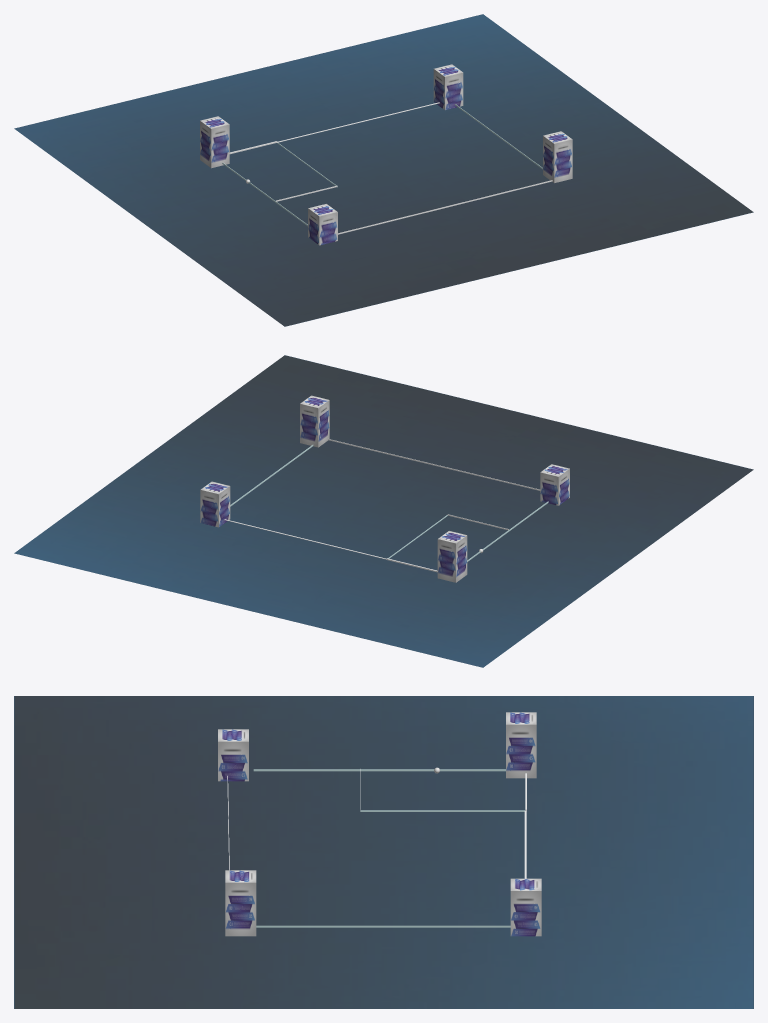
The picture shows the model from 3 angles, top to bottom: view 1: azimuth 30°, elevation 25°; view 2: azimuth 150°, elevation 25°; view 3: azimuth 270°, elevation 25°; orthographic projection. The views are drawn at different scales.
Parts seen in each view (by area): view 1: Plane 2, Box 1 (×4); view 2: Plane 2, Box 1 (×4); view 3: Plane 2, Box 1 (×4), Box 7 (×2).
Boxes of the visible parts, x1,y1,x2,y2 form: Plane 2: (14,14,753,326); Box 1 (×4): (200,64,572,245); Plane 2: (14,355,753,667); Box 1 (×4): (200,395,569,582); Plane 2: (14,696,753,1008); Box 1 (×4): (218,712,541,936); Box 7 (×2): (253,769,510,927).
Bounding box in the file's own units: 12.48 × 1.32 × 12.48.
12 materials, 5 textured.
